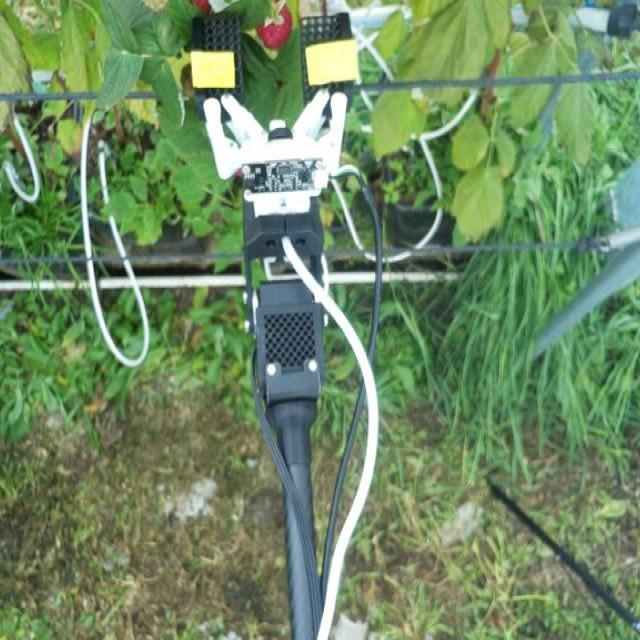Riped berries: (253, 0, 294, 52)
